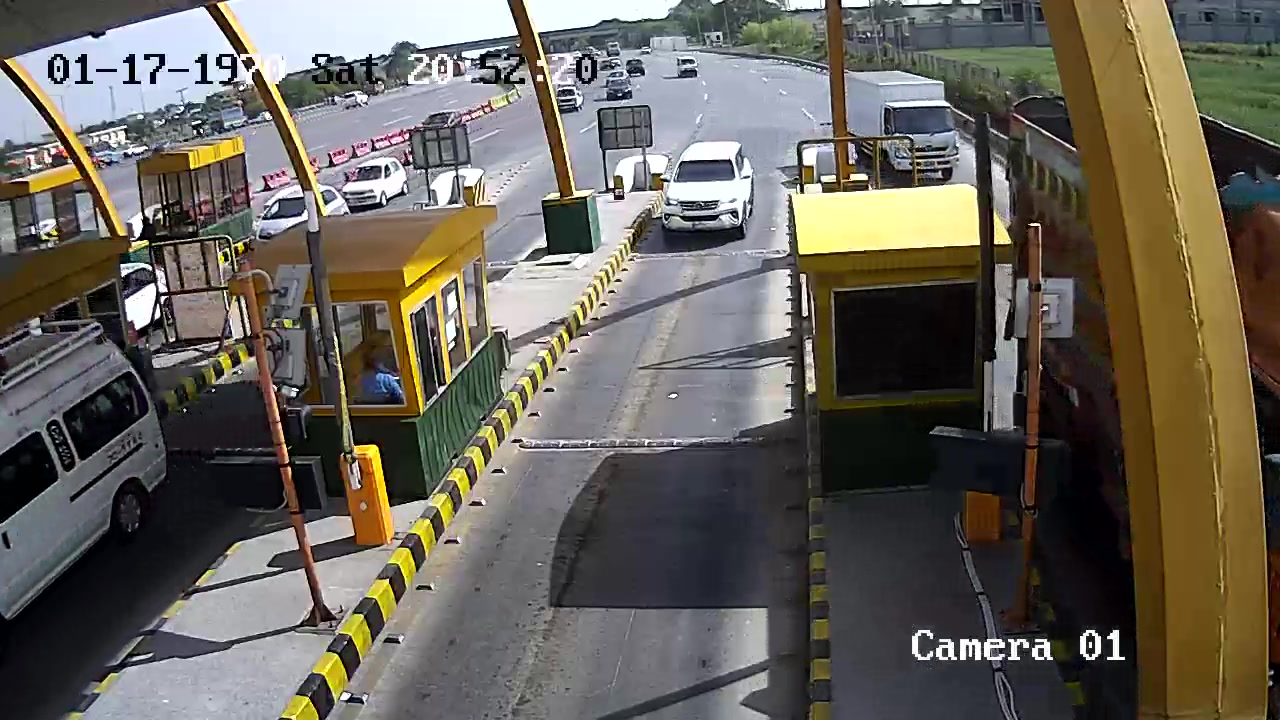F1: (654, 137, 762, 253)
